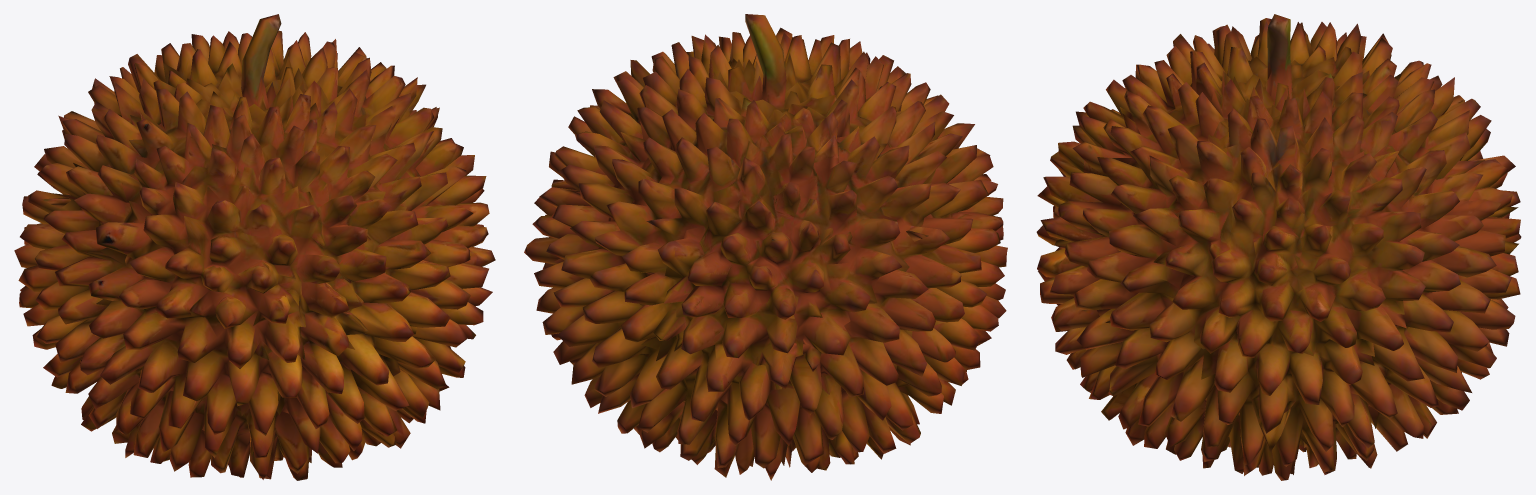
Rendered from Duriodulcis.fbx.
3 renders of one model, left to right at view 1: azimuth 30°, elevation 25°; view 2: azimuth 150°, elevation 25°; view 3: azimuth 270°, elevation 25°, orthographic. The views are drawn at different scales.
Parts seen in each view (by area): view 1: node_e132591b_90f2_4ee7_ac8b_d58154af2061_mesh0; view 2: node_e132591b_90f2_4ee7_ac8b_d58154af2061_mesh0; view 3: node_e132591b_90f2_4ee7_ac8b_d58154af2061_mesh0.
Part boxes in pixels (<box>): node_e132591b_90f2_4ee7_ac8b_d58154af2061_mesh0: <box>14,14,495,480</box>; node_e132591b_90f2_4ee7_ac8b_d58154af2061_mesh0: <box>524,14,1007,480</box>; node_e132591b_90f2_4ee7_ac8b_d58154af2061_mesh0: <box>1036,14,1521,480</box>.
Size of the model in its own units: 202 by 202 by 201.
Materials: 1 (1 with a texture image).
